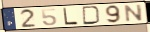2: (20, 8, 38, 28)
5: (40, 8, 58, 26)
9: (104, 4, 122, 24)
D: (81, 6, 102, 26)
L: (63, 7, 79, 26)
N: (124, 4, 144, 23)
